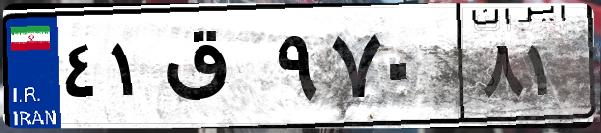0: (385, 28, 445, 110)
1: (525, 38, 570, 115), (110, 28, 158, 98)
4: (57, 26, 110, 100)
7: (330, 28, 385, 110)
8: (475, 38, 525, 113)
9: (270, 28, 330, 110)
ق: (158, 20, 270, 120)
